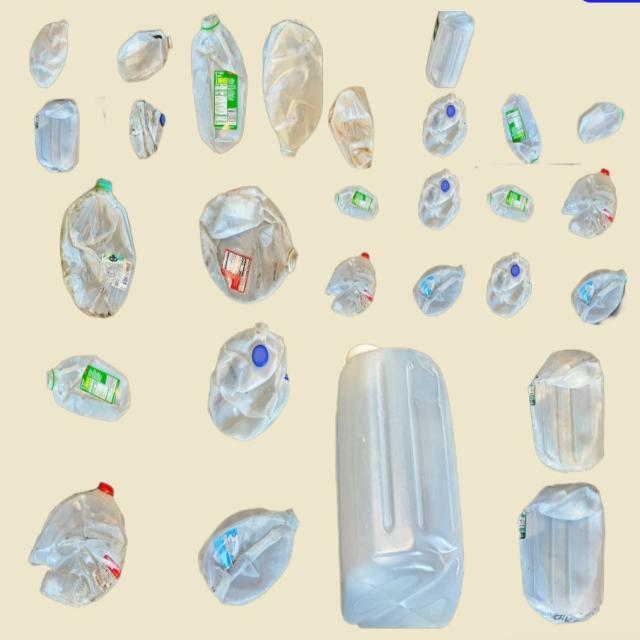milk-jug: (333, 338, 462, 636), (518, 482, 612, 626), (515, 345, 616, 478), (34, 475, 129, 616), (197, 186, 301, 302), (57, 172, 137, 321), (195, 500, 297, 610), (211, 322, 300, 435), (260, 13, 323, 160), (187, 11, 249, 153), (43, 353, 140, 427), (425, 6, 476, 94), (330, 83, 381, 170), (565, 168, 625, 240), (564, 268, 635, 323), (324, 247, 380, 316), (500, 89, 547, 167), (486, 251, 534, 323), (114, 28, 175, 84), (422, 95, 474, 160), (416, 254, 466, 321), (30, 14, 72, 93), (417, 165, 461, 234), (482, 182, 542, 231), (576, 93, 620, 156), (332, 182, 384, 222)
